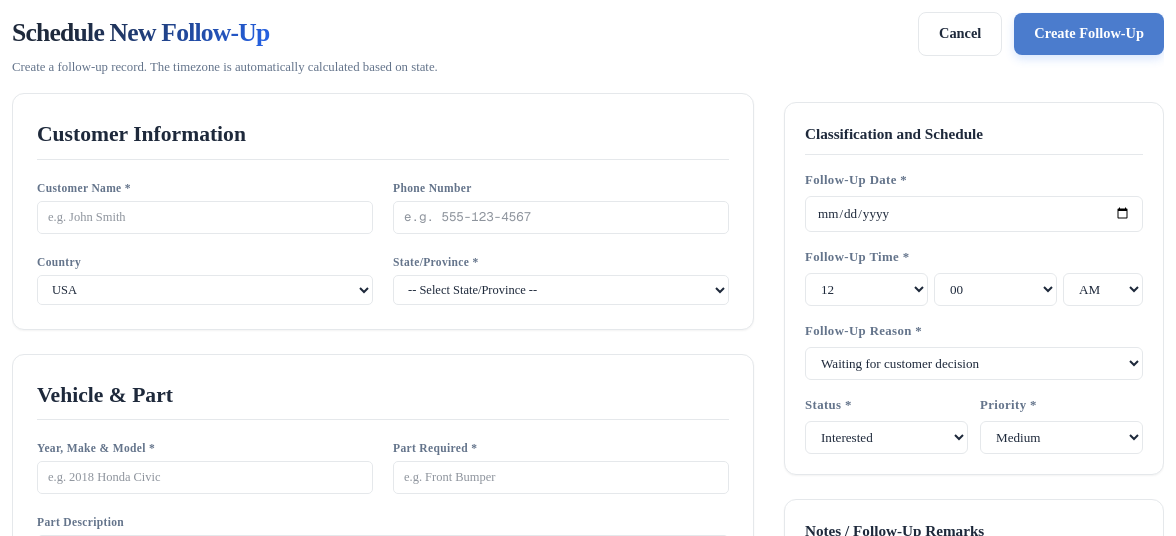
Scenario: AddFollowUpForm Component Unit Tests (W-3109) › should show specify reason text input only when "Other" is selected
This screenshot has width=1176, height=536.
Expected: the field labelled "Specify Reason" is not shown
# Change reason to Other (Please specify)
Select "Other (Please specify)" in the dropdown labelled "Follow-Up Reason *" at (974, 364), box [805, 347, 1143, 380]
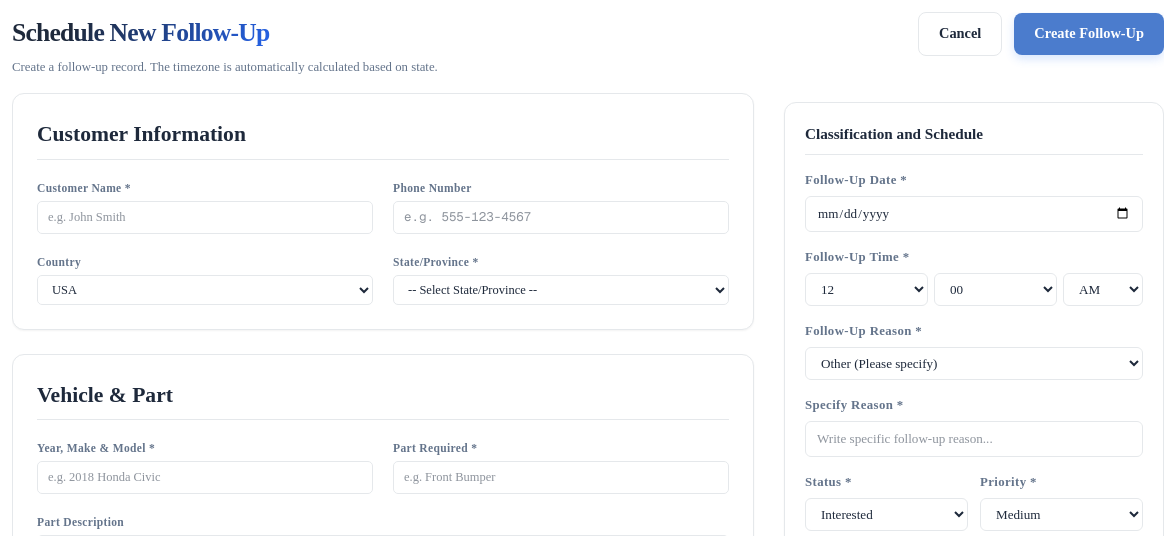
Expected: the field labelled "Specify Reason *" is shown, [805, 421, 1143, 457]
# Change back
Select "Waiting for paycheck" in the dropdown labelled "Follow-Up Reason *" at (974, 364), box [805, 347, 1143, 380]
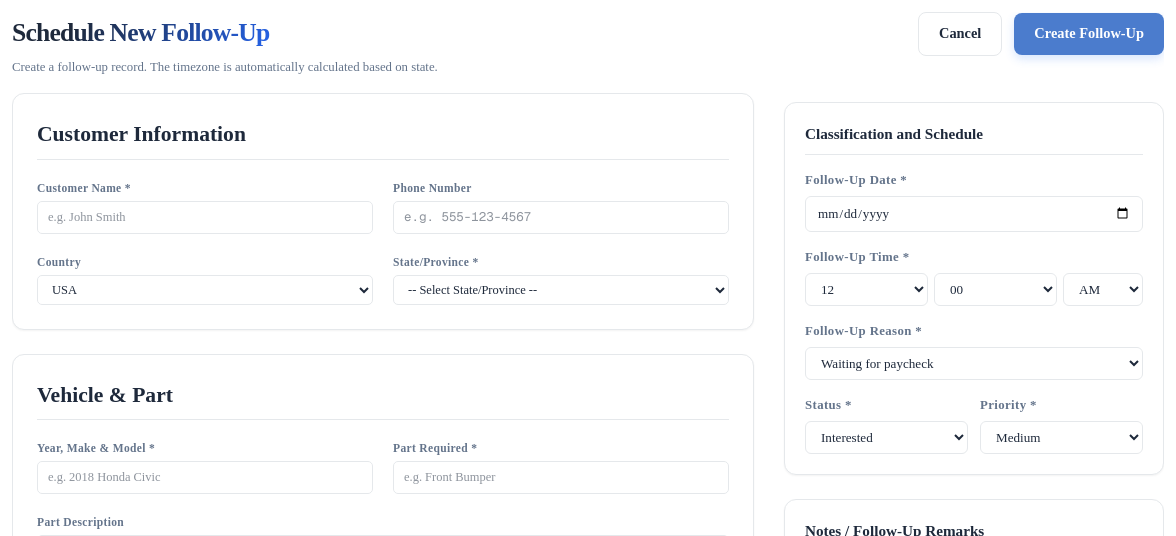
Expected: the label labelled "Specify Reason" is gone
